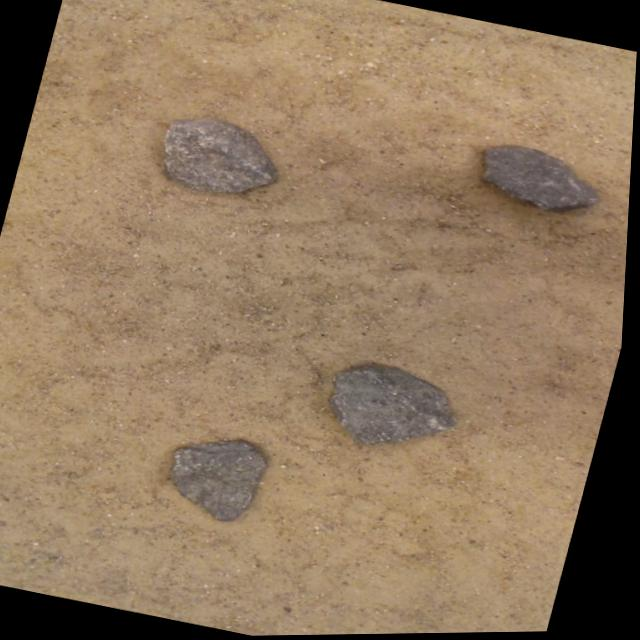rock: (332, 366, 458, 445), (164, 118, 277, 192), (174, 440, 269, 521), (484, 146, 599, 212)
